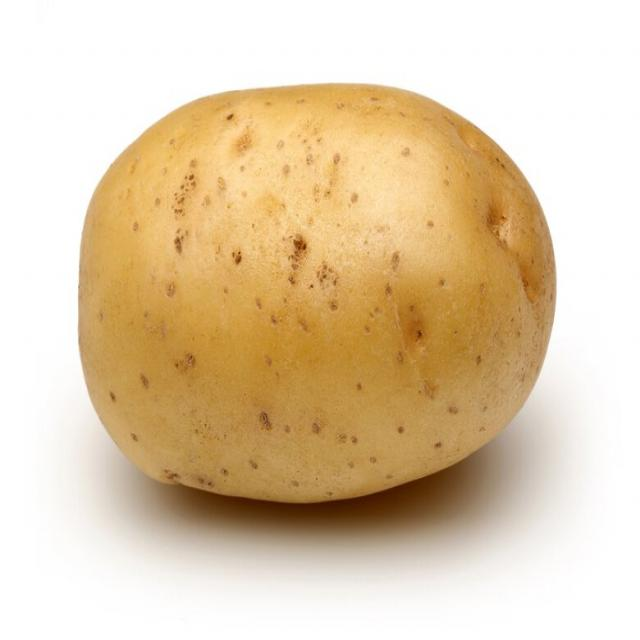potato: (77, 83, 559, 502)
